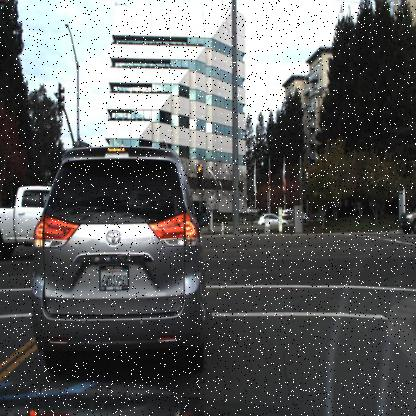car: (31, 140, 208, 374), (0, 184, 58, 256), (1, 181, 52, 259), (396, 201, 415, 237), (258, 212, 286, 228)
trafficLight-Red: (195, 162, 203, 188)
